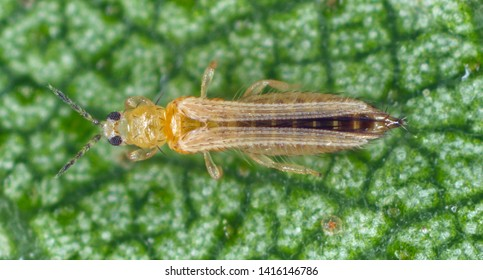Thrips: (30, 69, 410, 185)
